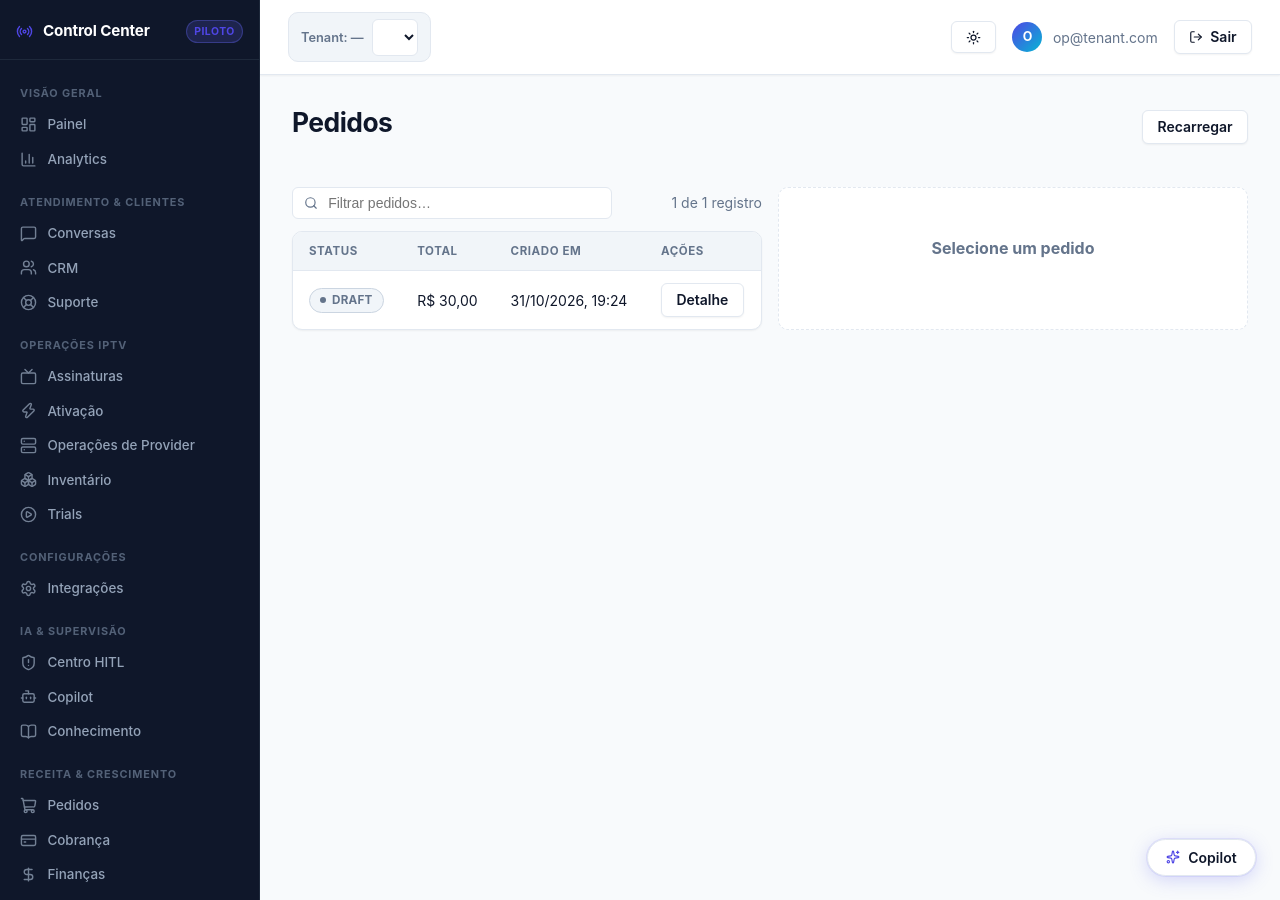
Test: OrdersPage › renderiza lista de pedidos e exibe detalhes ao clicar
expect the heading "Pedidos" is shown: met, box [292,103,392,143]
expect the text "DRAFT" is shown: met, box [309,288,384,313]
Clica em Detalhe
Click the button "Detalhe": (702, 300) [661,283,744,317]
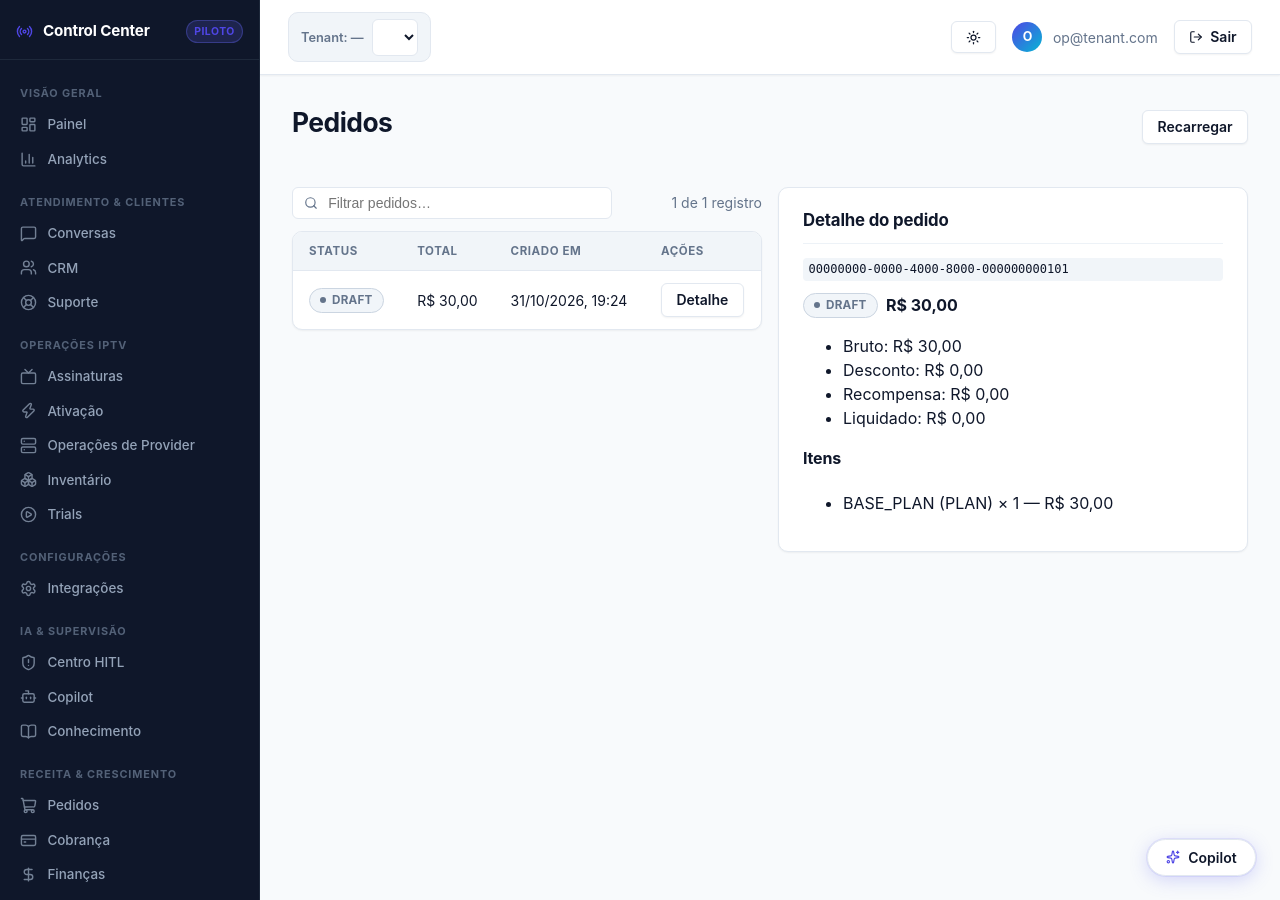
expect the heading "Detalhe do pedido" is shown: met, box [803,208,1223,244]
expect the text "00000000-0000-4000-8000-000000000101" is shown: met, box [803,258,1223,281]
